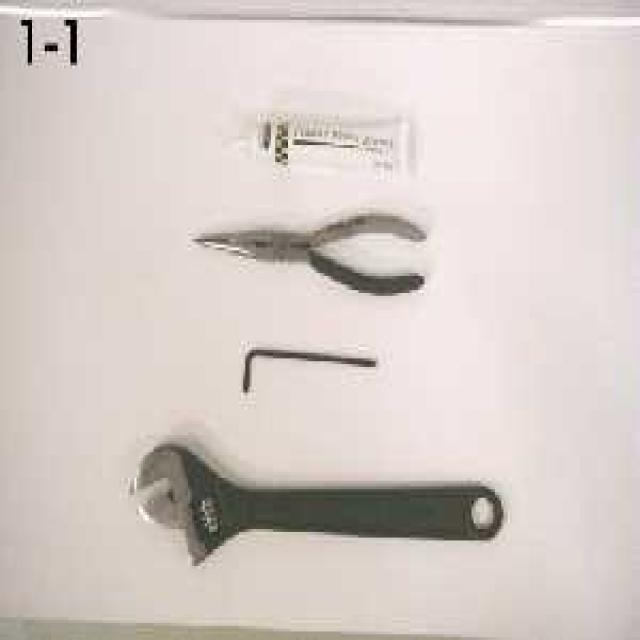wrench: (110, 428, 524, 586)
